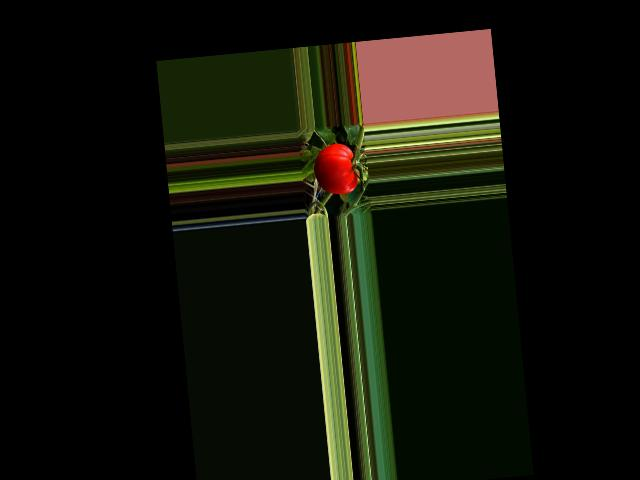tomato: (311, 142, 358, 197)
